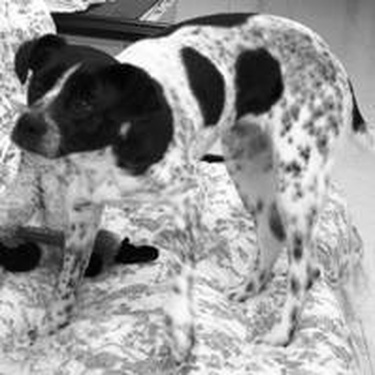dog: (10, 11, 369, 369), (3, 3, 63, 284)
